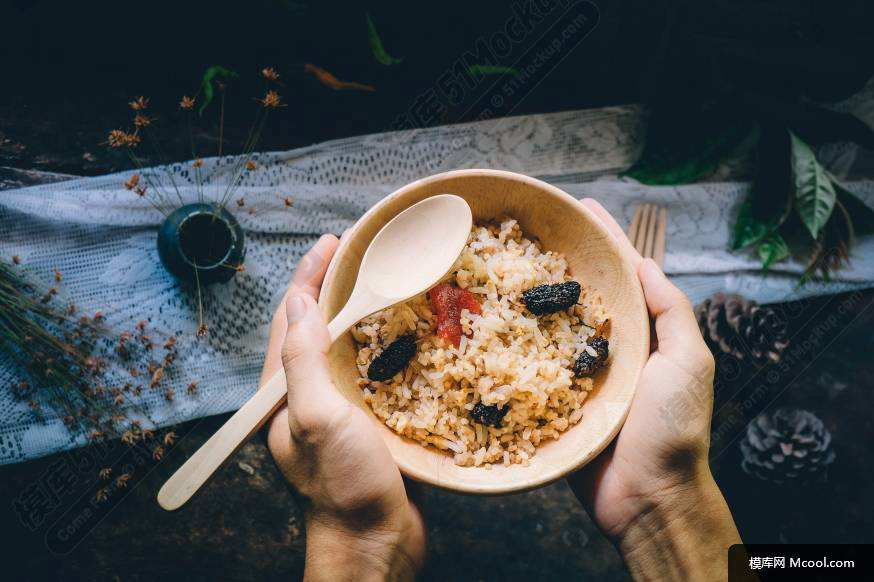no-phone: (216, 190, 490, 552)
